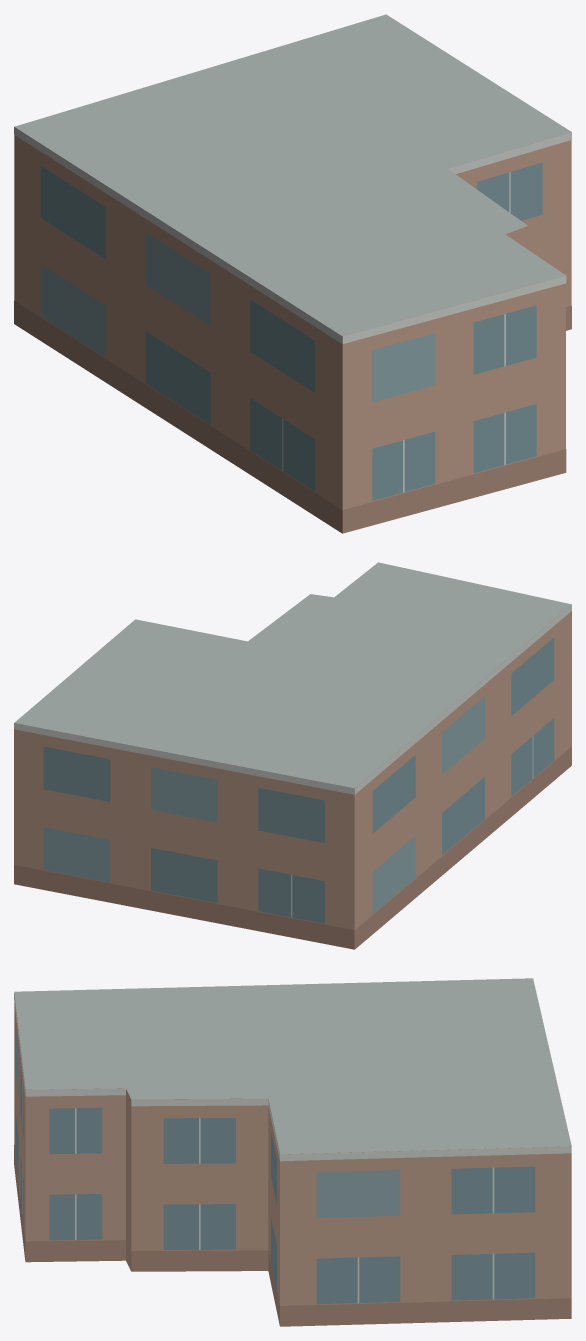
Rendered from survey-upis-32819572.glb.
The picture shows the model from 3 angles, top to bottom: view 1: azimuth 30°, elevation 25°; view 2: azimuth 150°, elevation 25°; view 3: azimuth 270°, elevation 25°; orthographic projection. The views are drawn at different scales.
Visible parts, largest first — view 1: survey-upis-32819572.tmp; view 2: survey-upis-32819572.tmp; view 3: survey-upis-32819572.tmp.
Part boxes in pixels (box(x1,y1,x2,y2)): survey-upis-32819572.tmp: box(14, 14, 571, 533); survey-upis-32819572.tmp: box(14, 562, 571, 949); survey-upis-32819572.tmp: box(14, 978, 571, 1326).
Bounding box in the file's own units: 13.38 × 6.1 × 17.9.
